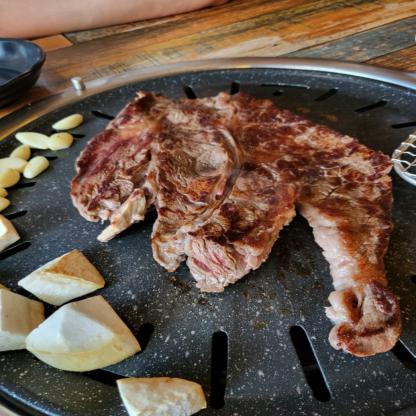Carne: (78, 90, 415, 254)
